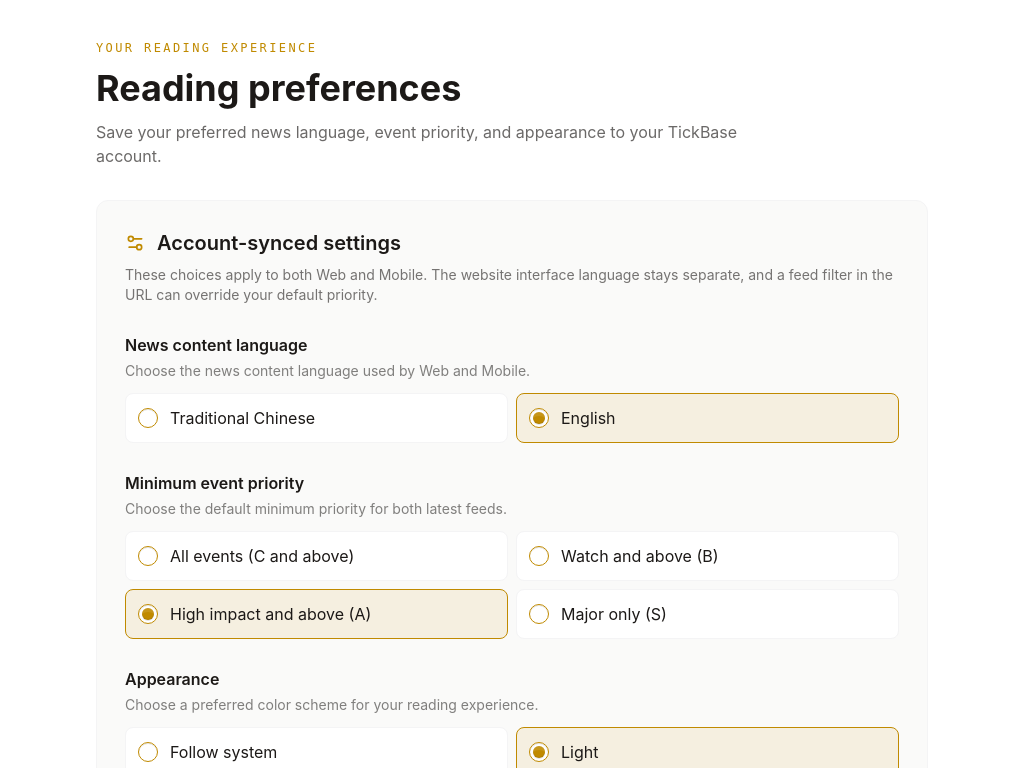
it: account-applied Web reading › saves changed choices and keeps them visible after an account refresh
Click the radio button labelled "Traditional Chinese" at (148, 418), box [138,408,158,428]
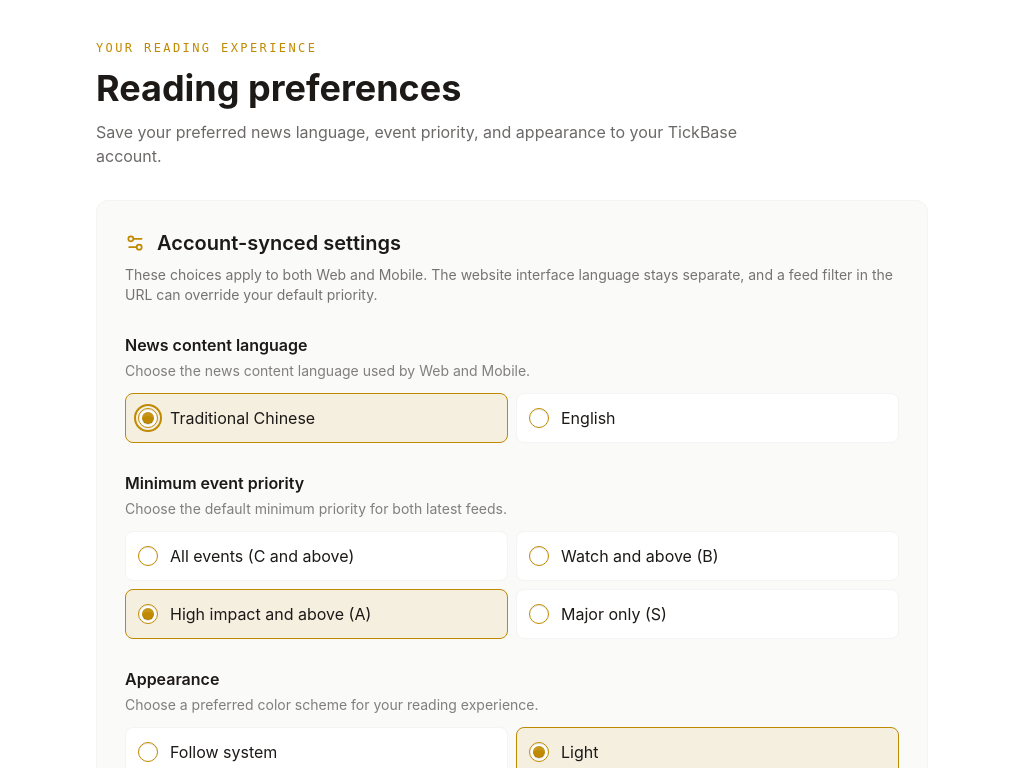
Click the radio button labelled "Major only (S)" at (539, 614), box [529,604,549,624]
(page scrolled)
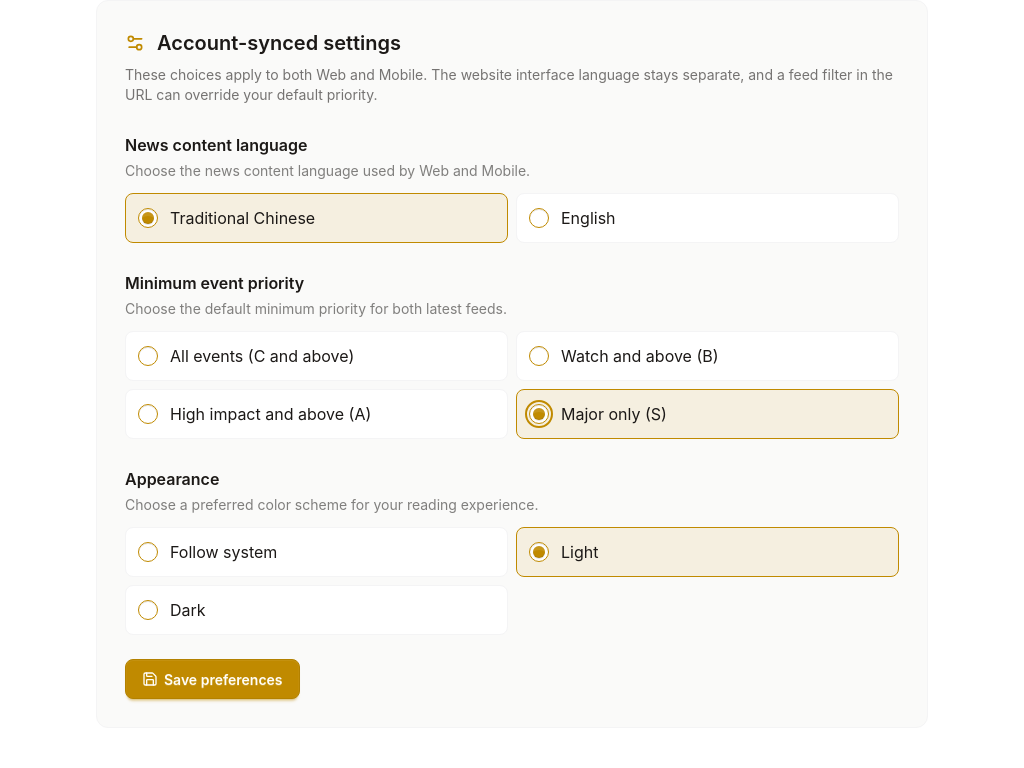
Click the radio button labelled "Dark" at (148, 610), box [138,600,158,620]
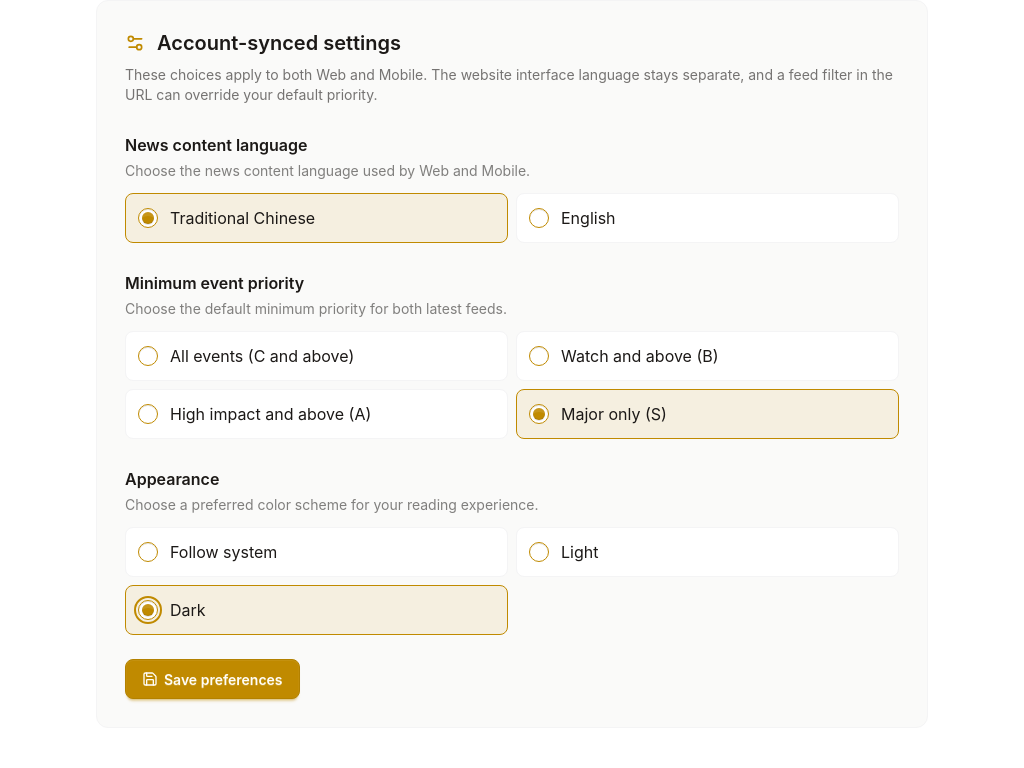
Click the button "Save preferences" at (212, 679), box [125,659,300,699]
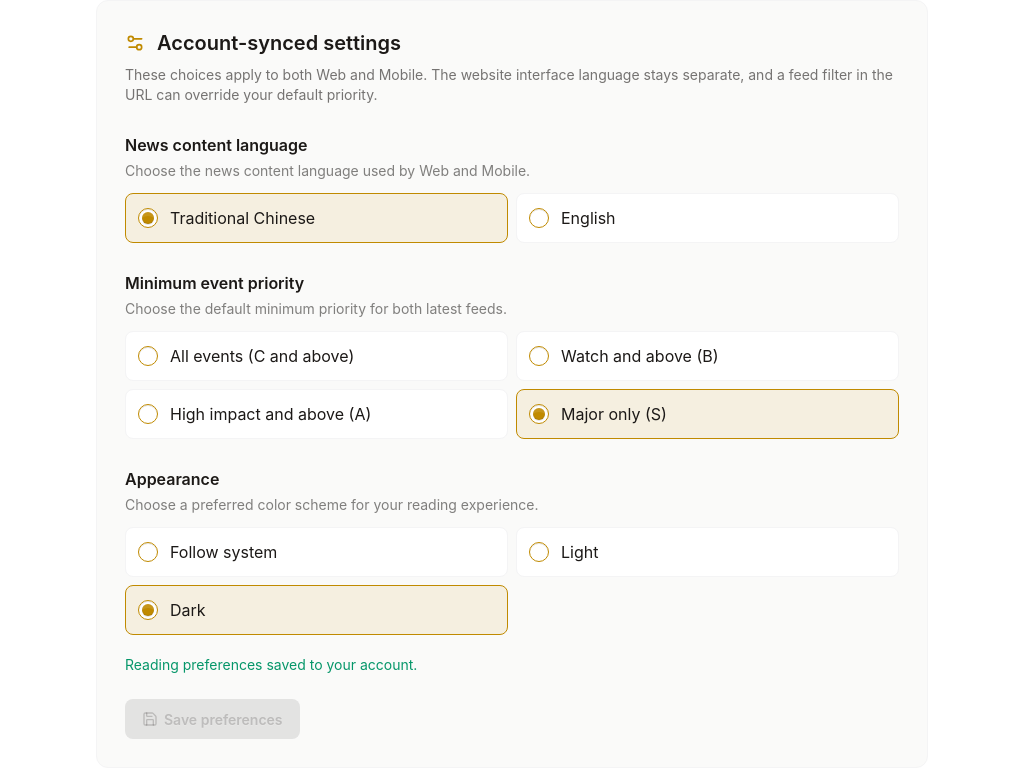
Now the text "Reading preferences saved to your account." is shown, box [125,656,417,673]
